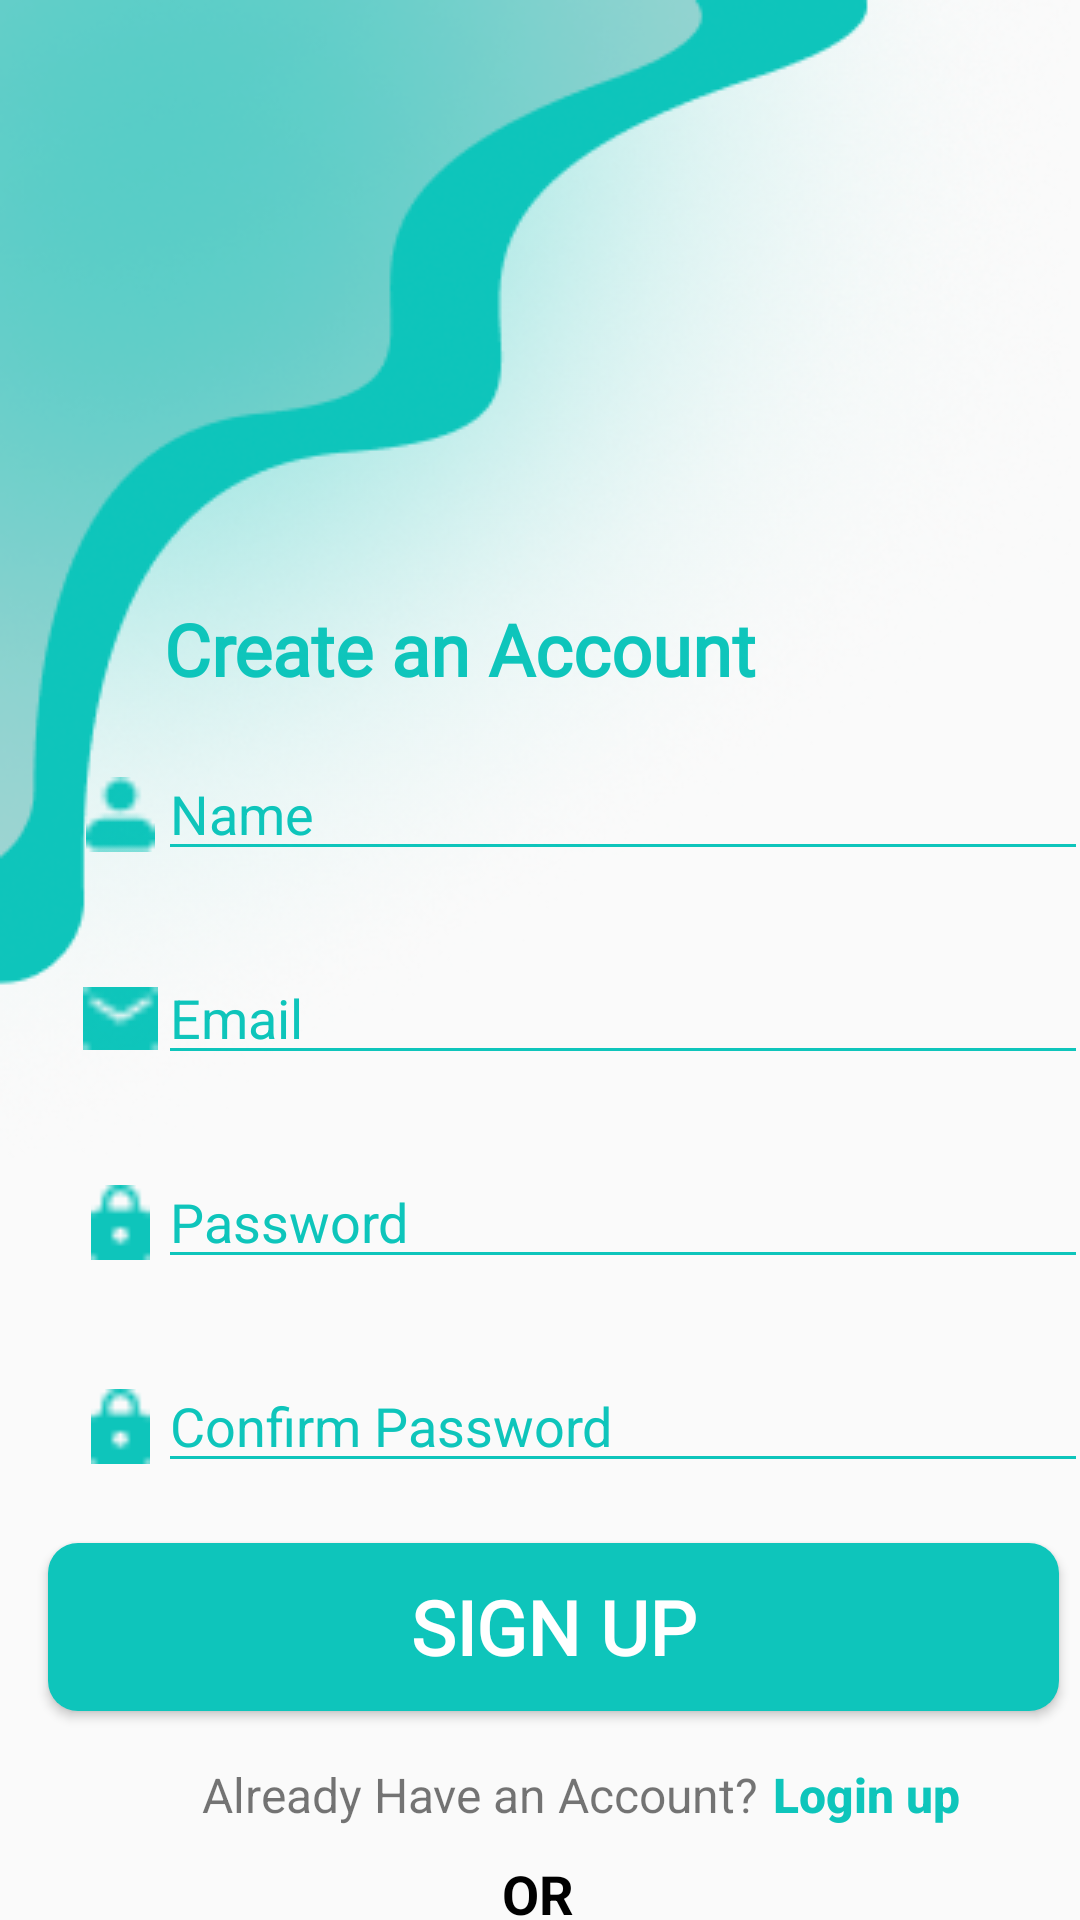

Screen size 1080*1920. Icon name, then its box in pixels as Rect(x1, y1, x2, y2):
lock: Rect(91, 1185, 150, 1260), Rect(91, 1389, 150, 1464)
person: Rect(86, 777, 155, 852)
